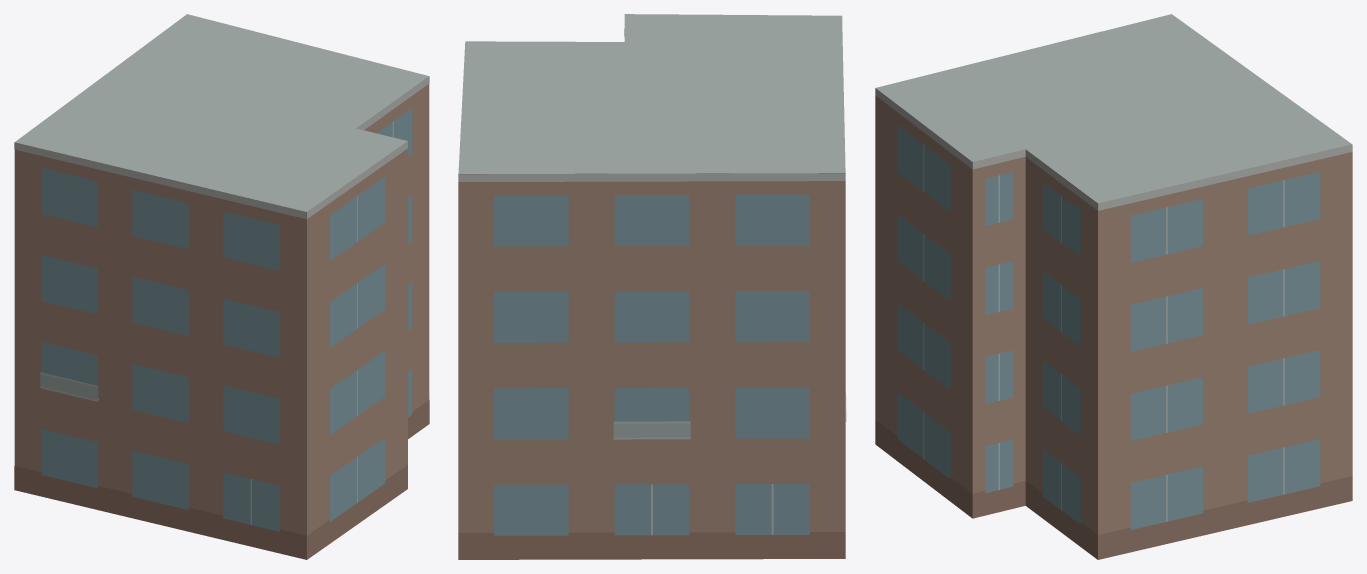
The model's file is survey-upis-32721112.glb.
3 views of the same model, side by side, from view 1: azimuth 30°, elevation 25°; view 2: azimuth 150°, elevation 25°; view 3: azimuth 270°, elevation 25° (orthographic). The views are drawn at different scales.
Visible parts, largest first — view 1: survey-upis-32721112.tmp; view 2: survey-upis-32721112.tmp; view 3: survey-upis-32721112.tmp.
Boxes of the visible parts, x1=… form: survey-upis-32721112.tmp: x1=14, y1=14, x2=429, y2=559; survey-upis-32721112.tmp: x1=458, y1=14, x2=846, y2=559; survey-upis-32721112.tmp: x1=875, y1=14, x2=1352, y2=559.
Size of the model in its own units: 13.41 by 11.75 by 14.27.
